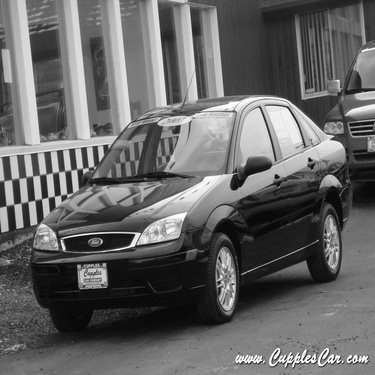car: (23, 92, 354, 341), (304, 38, 373, 193)
